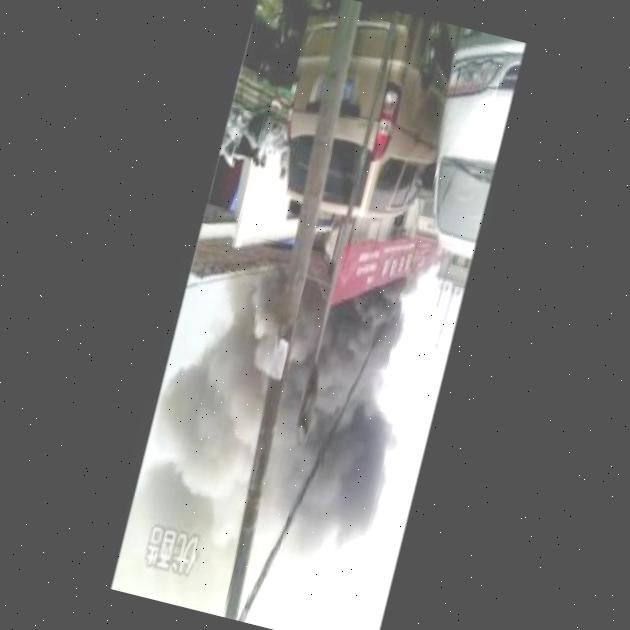smoke: (115, 355, 278, 616), (249, 392, 403, 565), (313, 287, 406, 413), (206, 268, 292, 371), (276, 289, 331, 387)
